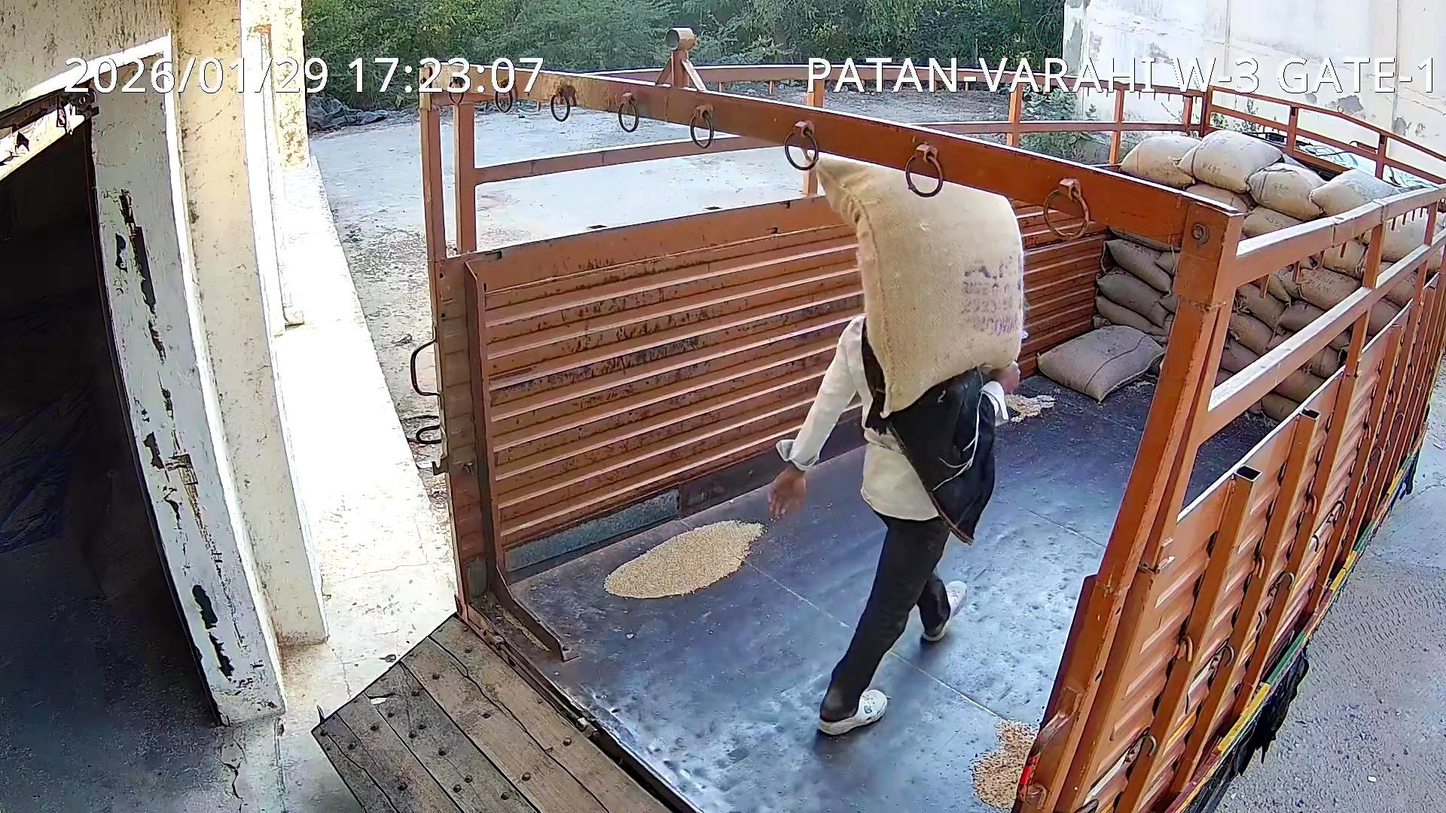Sack: (817, 154, 1023, 416)
